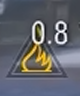1fire: (1, 47, 77, 83)
